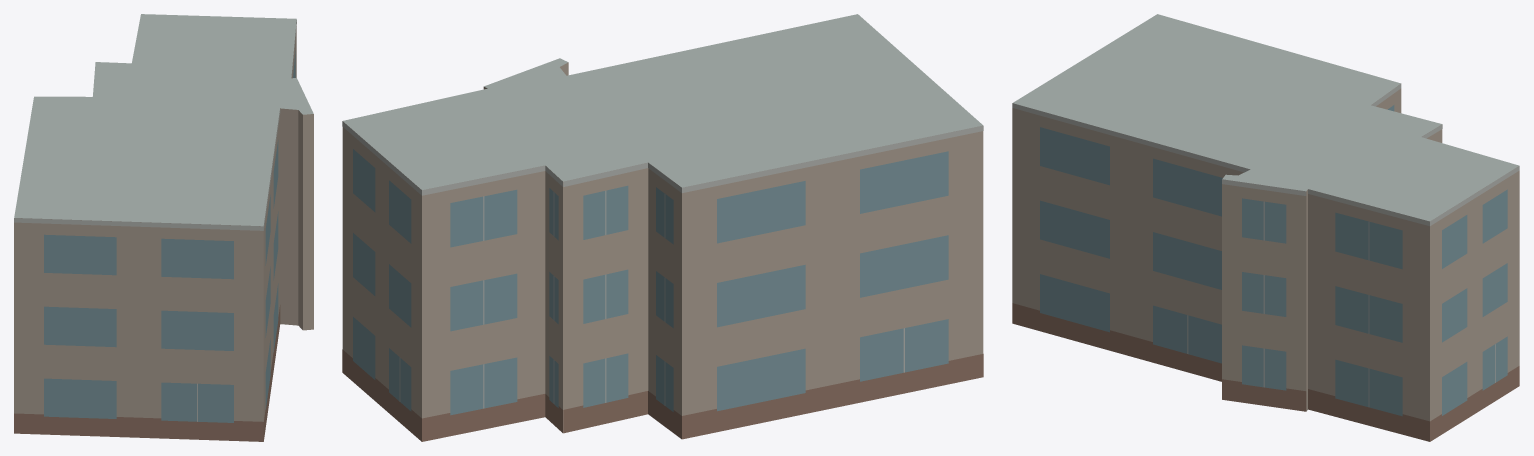
The model's file is survey-upis-32897490.glb.
3 views of the same model, side by side, from view 1: azimuth 30°, elevation 25°; view 2: azimuth 150°, elevation 25°; view 3: azimuth 270°, elevation 25° (orthographic). The views are drawn at different scales.
Visible parts, largest first — view 1: survey-upis-32897490.tmp; view 2: survey-upis-32897490.tmp; view 3: survey-upis-32897490.tmp.
Part boxes in pixels (x1,y1,x2,y2): survey-upis-32897490.tmp: [14, 14, 313, 441]; survey-upis-32897490.tmp: [342, 14, 983, 441]; survey-upis-32897490.tmp: [1012, 14, 1519, 441].
Bounding box in the file's own units: 22.51 × 11.15 × 23.26.
